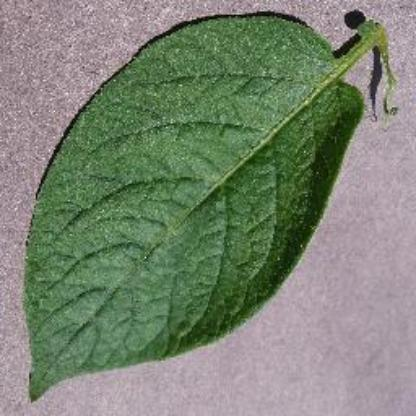Healthy-plant: (24, 5, 411, 406)
